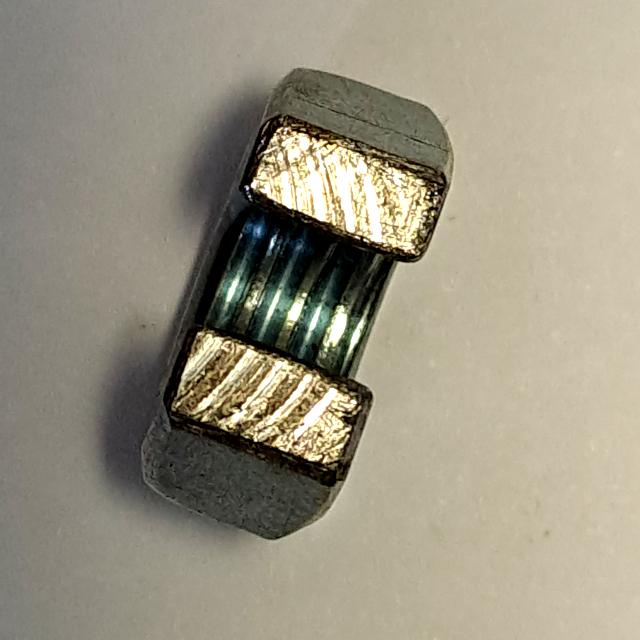Side-Fracture: (126, 60, 461, 558)
